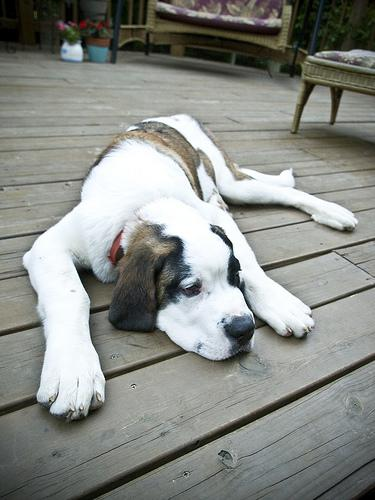dog: (107, 196, 255, 358)
